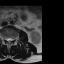CCS_normal: (8, 36, 10, 44)
LFS_normal: (12, 36, 14, 42)
LLS_normal: (10, 36, 12, 43)
RFS_normal: (4, 36, 6, 42)
RLS_normal: (6, 36, 8, 43)
